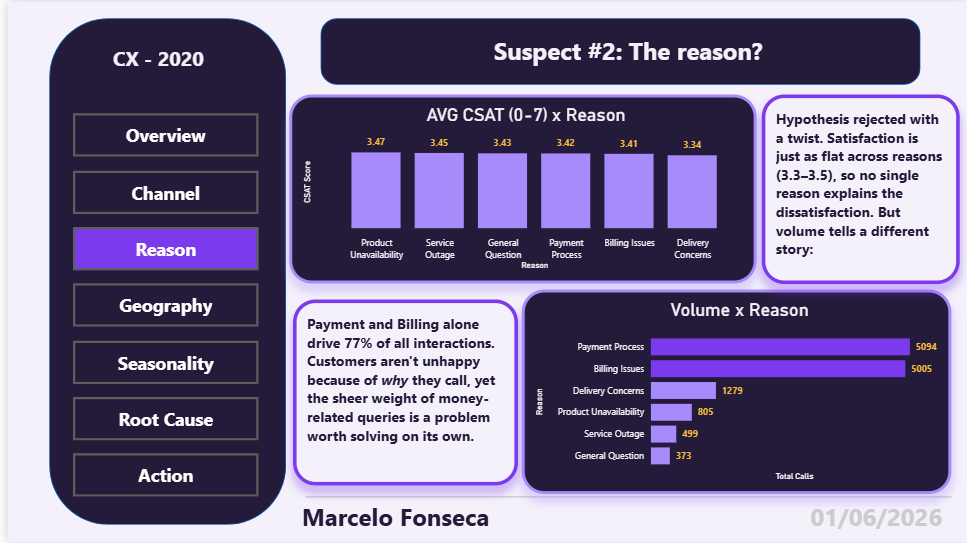

What the dashboard file says about the page in this screenshot:
{"tool":"powerbi","page":{"name":"Reason","canvas":[1280,720],"ordinal":3},"visuals":[{"type":"shape","box":[54.4,21.1,315.8,675.4],"z":0},{"type":"textbox","box":[135.5,50.9,149.1,57.9],"z":1000},{"type":"shape","box":[417.1,21.4,800,88.6],"z":2000},{"type":"textbox","box":[448.6,38.6,757.1,71.4],"z":3000},{"type":"shape","box":[396.5,629.8,861.4,59.6],"z":4000},{"type":"textbox","box":[386,659.6,300,59.6],"z":5000},{"type":"textbox","box":[1064.9,659.6,193,59.6],"z":6000},{"type":"actionButton","title":"Overview","box":[86.4,149.1,247.4,57.9],"z":7000},{"type":"actionButton","box":[86.4,224.6,247.4,57.9],"z":8000},{"type":"actionButton","box":[86.4,300,247.4,57.9],"z":9000},{"type":"actionButton","box":[86.4,375.4,247.4,57.9],"z":10000},{"type":"actionButton","box":[86.4,450.9,247.4,57.9],"z":11000},{"type":"actionButton","box":[86.4,526.3,247.4,57.9],"z":12000},{"type":"actionButton","box":[86.4,601.8,247.4,57.9],"z":13000},{"type":"columnChart","title":"AVG CSAT (0-7) x Reason","fields":{"Y":["Call Center Data.Avg CSAT"],"Category":["Reason.Reason Description"]},"box":[375,123.3,623.3,251.7],"z":13001},{"type":"clusteredBarChart","title":"Volume x Reason","fields":{"Category":["Reason.Reason Description"],"Y":["Call Center Data.Total Calls"]},"box":[685.7,382.9,572.9,272.9],"z":13002},{"type":"textbox","box":[380,396.7,300,248.3],"z":13003},{"type":"textbox","box":[1004.3,122.9,264.3,252.9],"z":13004}]}

Visuals, with their boxes in screenshot pixels (x1, y1, x2, y2), scaled from the page's 1280x720 canvas onto the 967x543 screenshot:
shape: 41,16,280,525
textbox: 102,38,215,82
shape: 315,16,919,83
textbox: 339,29,911,83
shape: 300,475,950,520
textbox: 292,497,518,542
textbox: 804,497,950,542
"Overview" actionButton: 65,112,252,156
actionButton: 65,169,252,213
actionButton: 65,226,252,270
actionButton: 65,283,252,327
actionButton: 65,340,252,384
actionButton: 65,397,252,441
actionButton: 65,454,252,498
"AVG CSAT (0-7) x Reason" columnChart: 283,93,754,283
"Volume x Reason" clusteredBarChart: 518,289,951,495
textbox: 287,299,514,486
textbox: 759,93,958,283
